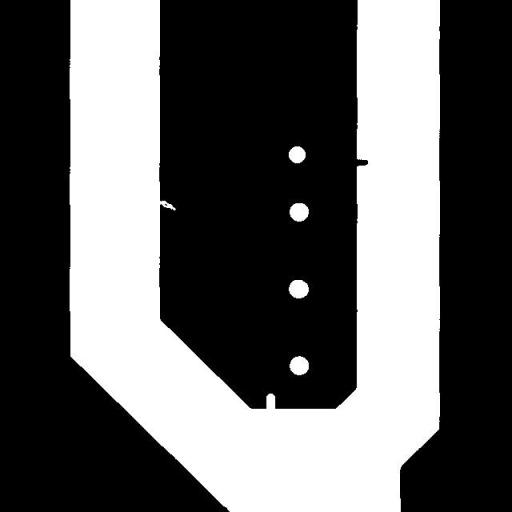mousebite: (150, 192, 183, 218), (258, 386, 282, 420)
pin-hole: (281, 138, 313, 170)
spur: (346, 151, 375, 174)
